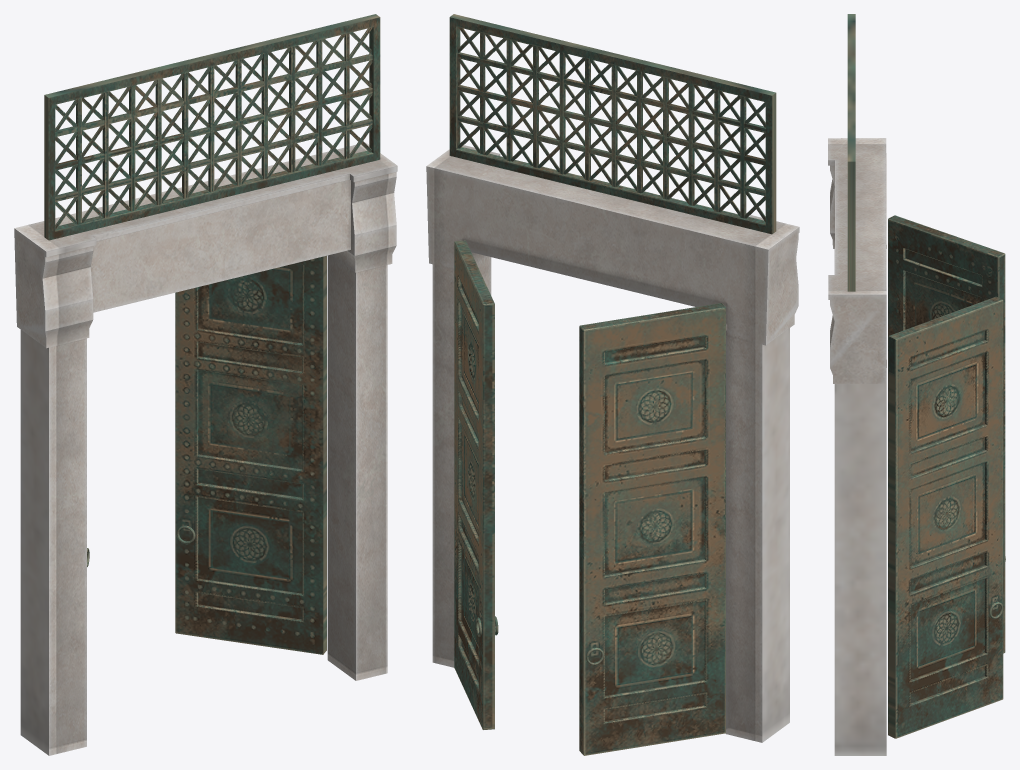
Rendered from SanctuaryDoors.fbx.
The picture shows the model from 3 angles, left to right: view 1: azimuth 30°, elevation 25°; view 2: azimuth 150°, elevation 25°; view 3: azimuth 270°, elevation 25°; orthographic projection. The views are drawn at different scales.
Parts seen in each view (by area): view 1: SanctuaryDoorArch, SanctuaryRightDoor, SanctuaryGrate; view 2: SanctuaryDoorArch, SanctuaryLeftDoor, SanctuaryGrate, SanctuaryRightDoor; view 3: SanctuaryRightDoor, SanctuaryDoorArch, SanctuaryLeftDoor, SanctuaryGrate.
Boxes of the visible parts, x1,y1,x2,y2 form: SanctuaryDoorArch: (14,142,397,755); SanctuaryRightDoor: (175,255,326,654); SanctuaryGrate: (44,14,380,240); SanctuaryDoorArch: (426,145,799,742); SanctuaryLeftDoor: (579,303,725,755); SanctuaryGrate: (449,14,776,234); SanctuaryRightDoor: (454,240,498,729); SanctuaryRightDoor: (888,296,1003,738); SanctuaryDoorArch: (828,138,886,755); SanctuaryLeftDoor: (888,215,1005,653); SanctuaryGrate: (847,14,855,291).
Size of the model in its own units: 4.79 by 8.48 by 2.3.
3 materials, 3 textured.
